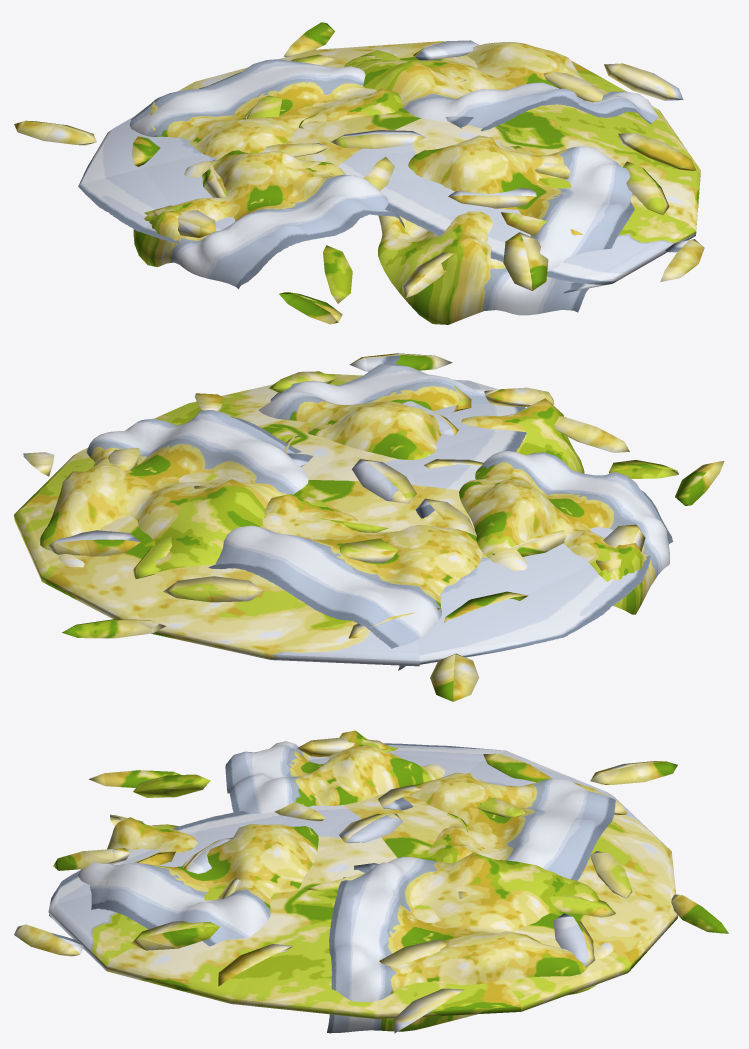
Rendered from Web_FriedRice_Lettuce.fbx.
3 renders of one model, top to bottom at view 1: azimuth 30°, elevation 25°; view 2: azimuth 150°, elevation 25°; view 3: azimuth 270°, elevation 25°, orthographic. The views are drawn at different scales.
Parts seen in each view (by area): view 1: 蛋炒饭; view 2: 蛋炒饭; view 3: 蛋炒饭.
Boxes of the visible parts, <box> form: 蛋炒饭: <box>14,22,704,324</box>; 蛋炒饭: <box>14,353,724,701</box>; 蛋炒饭: <box>14,730,728,1033</box>.
Bounding box in the file's own units: 81.93 × 15.83 × 86.55.
1 material, 1 textured.
